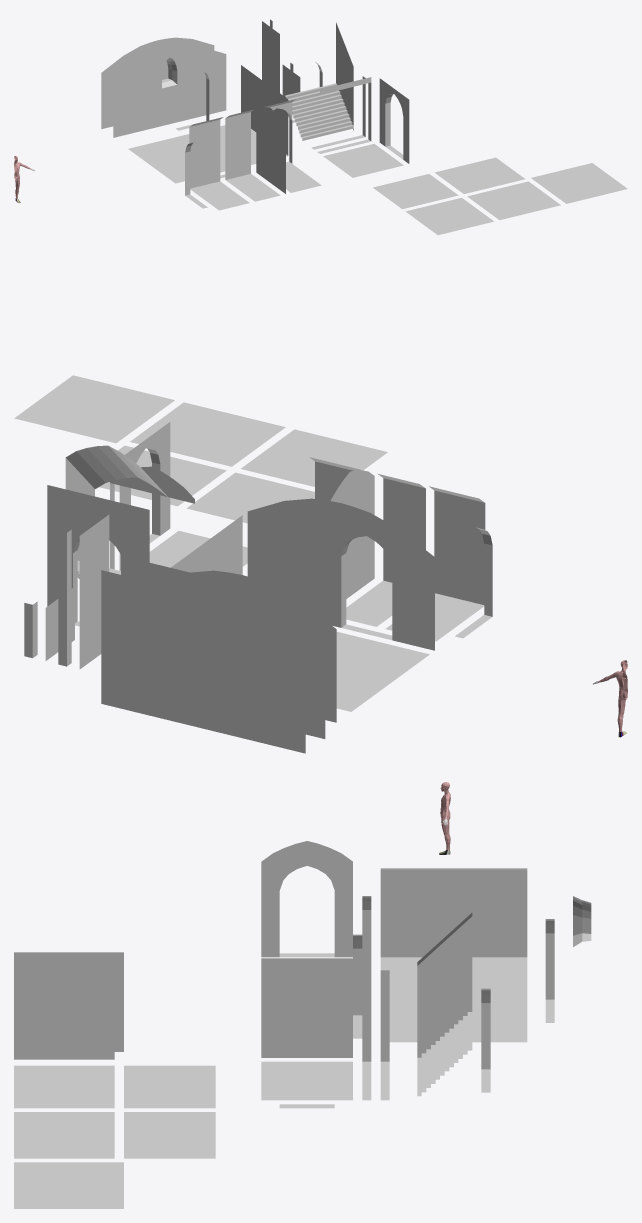
The model's file is greybox05e.glb.
3 views of the same model, one above another, from view 1: azimuth 30°, elevation 25°; view 2: azimuth 150°, elevation 25°; view 3: azimuth 270°, elevation 25° (orthographic). The views are drawn at different scales.
Parts seen in each view (by area): view 1: Cube.009, Cube.007, Cube.017, Cube.003, Cube.004, Cube.024, Cube.011, Cube.010, Cube.025, Cube.026, Cube.023, Cube.022 (+8 smaller); view 2: Cube.010, Cube.006, Cube.003, Cube.007, Cube.009, Cube.024, Cube.016, Cube.025, Cube.026, Cube.004, Cube.013, Cube.022 (+13 smaller); view 3: Cube.007, Cube.027, Cube.031, Cube.017, Cube.002, Cube.024, Cube.025, Cube.026, Cube.023, Cube.022, Cube.030, Cube.028 (+8 smaller).
Part boxes in pixels (x1,y1,x2,y2): Cube.009: (113, 46, 226, 137); Cube.007: (128, 65, 288, 183); Cube.017: (285, 22, 353, 140); Cube.003: (189, 117, 249, 210); Cube.004: (225, 109, 280, 201); Cube.024: (531, 163, 627, 203); Cube.011: (256, 107, 285, 193); Cube.010: (101, 37, 214, 129); Cube.025: (467, 181, 560, 220); Cube.026: (405, 197, 493, 235); Cube.023: (434, 157, 525, 193); Cube.022: (373, 174, 458, 209); Cube.010: (101, 570, 305, 753); Cube.006: (247, 498, 434, 650); Cube.003: (386, 486, 485, 641); Cube.007: (171, 515, 429, 711); Cube.009: (121, 555, 325, 738); Cube.024: (14, 375, 174, 443); Cube.016: (47, 485, 149, 626); Cube.025: (130, 402, 285, 466); Cube.026: (241, 429, 387, 486); Cube.004: (346, 473, 425, 626); Cube.013: (79, 514, 109, 669); Cube.022: (186, 472, 314, 523); Cube.007: (380, 868, 527, 1042); Cube.027: (14, 960, 114, 1059); Cube.031: (261, 958, 352, 1057); Cube.017: (417, 912, 472, 1096); Cube.002: (261, 841, 352, 957); Cube.024: (14, 1162, 123, 1208); Cube.025: (14, 1112, 114, 1158); Cube.026: (14, 1065, 114, 1108); Cube.023: (124, 1112, 215, 1158); Cube.022: (124, 1065, 215, 1108); Cube.030: (261, 1061, 352, 1100); Cube.028: (14, 952, 123, 1051).
Bounding box in the file's own units: 18.4 × 4.1 × 13.4.
1 material, 1 textured.
